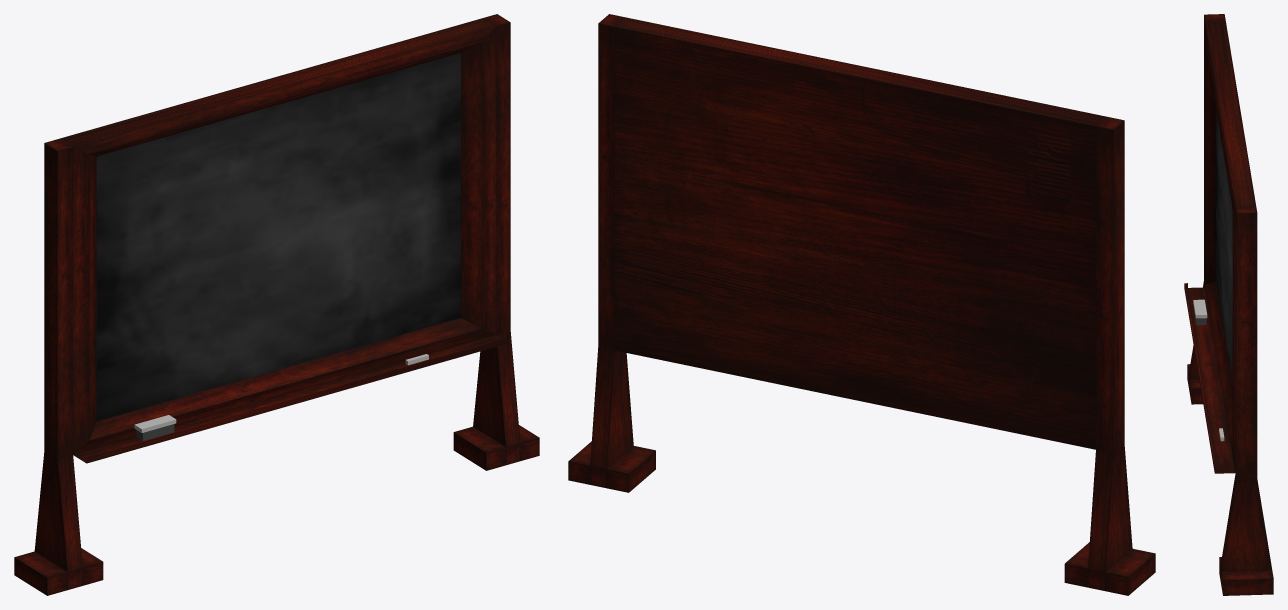
3 views of the same model, side by side, from view 1: azimuth 30°, elevation 25°; view 2: azimuth 150°, elevation 25°; view 3: azimuth 270°, elevation 25° (orthographic). The views are drawn at different scales.
Visible parts, largest first — view 1: chalkboard_3, eraser and chalk_2; view 2: chalkboard_3; view 3: chalkboard_3, eraser and chalk_2.
Part boxes in pixels (x1,y1,x2,y2): chalkboard_3: (14,14,539,595); eraser and chalk_2: (134,354,428,440); chalkboard_3: (568,14,1155,595); chalkboard_3: (1184,14,1273,595); eraser and chalk_2: (1193,299,1224,441).
Size of the model in its own units: 4.61 by 3.7 by 0.8019.
Materials: 4 (4 with a texture image).
